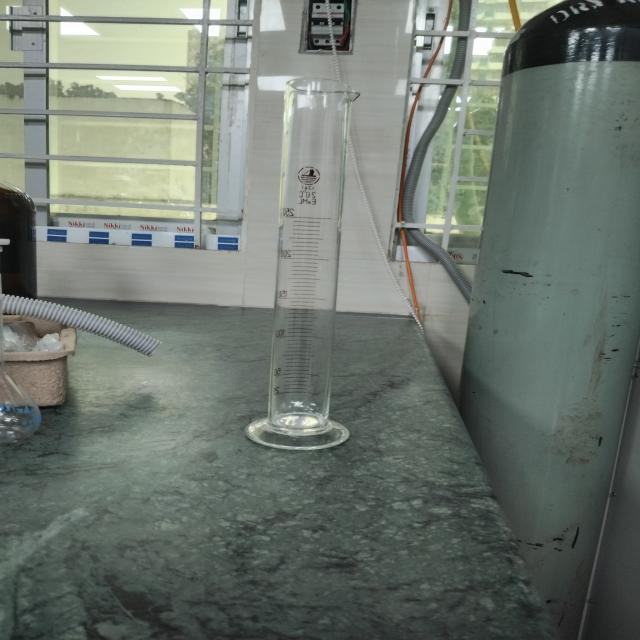Measuring_Cylinder: (207, 31, 392, 478)
